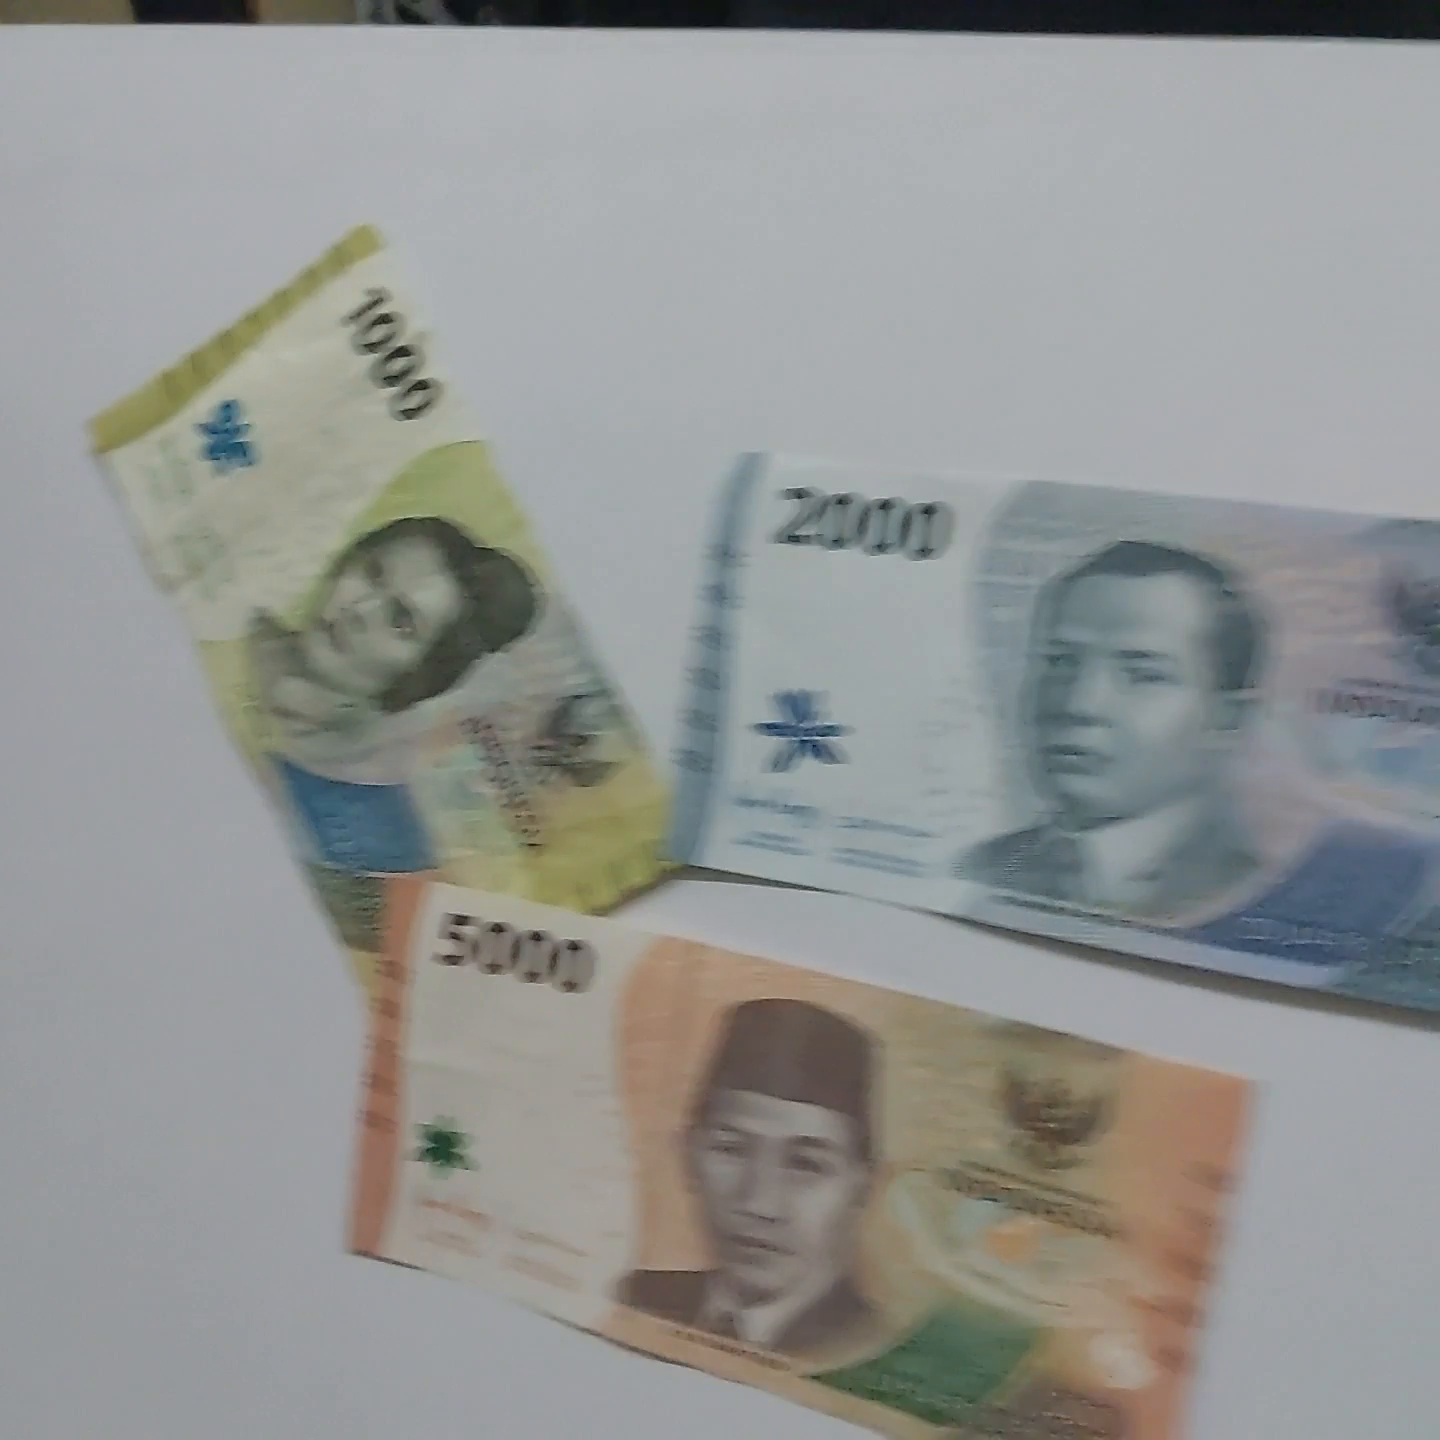1k: (50, 211, 675, 981)
2k: (613, 328, 1440, 1022)
5k: (373, 819, 1253, 1440)
